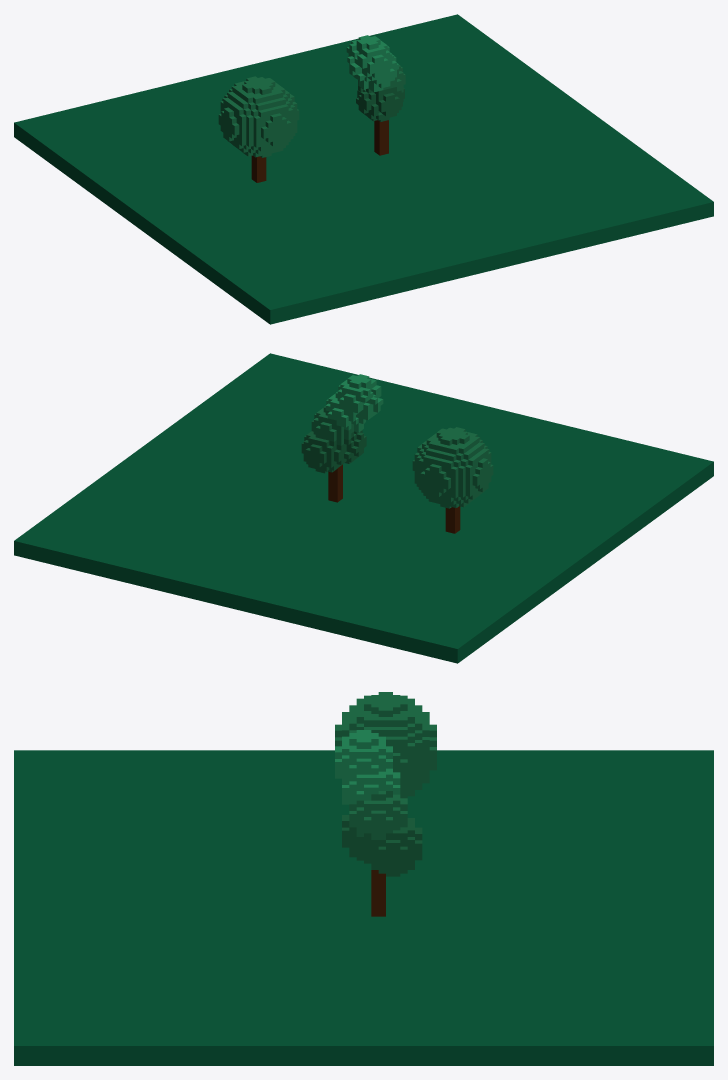
The model's file is trees.obj.
The picture shows the model from 3 angles, top to bottom: view 1: azimuth 30°, elevation 25°; view 2: azimuth 150°, elevation 25°; view 3: azimuth 270°, elevation 25°; orthographic projection. The views are drawn at different scales.
Size of the model in its own units: 96 by 28 by 96.
Materials: 1 (1 with a texture image).
